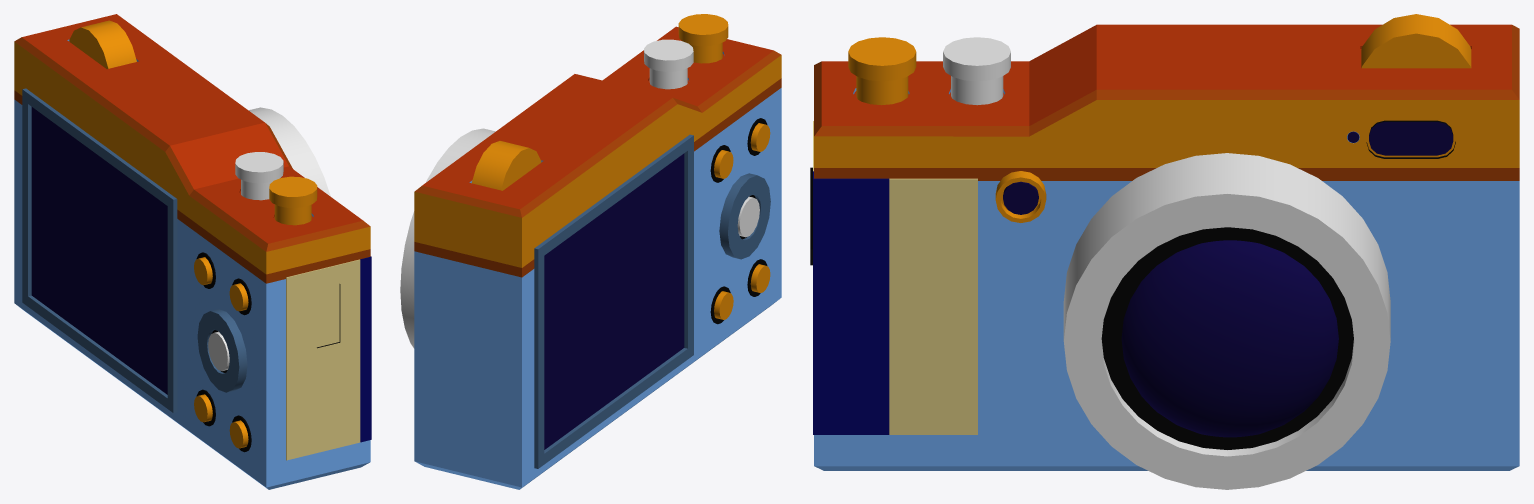
The model's file is LowPolyCamera.fbx.
The picture shows the model from 3 angles, left to right: view 1: azimuth 30°, elevation 25°; view 2: azimuth 150°, elevation 25°; view 3: azimuth 270°, elevation 25°; orthographic projection. The views are drawn at different scales.
Visible parts, largest first — view 1: Cube, Cube.003, Cube.016, Cube.004, Cylinder.002, Cube.001, Cylinder, Cylinder.001, Cube.006, Cube.008, Cube.007, Cube.009 (+1 smaller); view 2: Cube, Cube.003, Cube.004, Cube.001, Cylinder.002, Cylinder.001, Cylinder, Cube.006, Cube.009, Cube.010, Cube.007, Cube.008; view 3: Cube, Cube.001, Cube.016, Sphere, Cylinder.002, Cylinder, Cylinder.001, Cube.015, Cylinder.004.
Boxes of the visible parts, bbox=[...] form: Cube: bbox=[14, 14, 370, 489]; Cube.003: bbox=[22, 88, 177, 412]; Cube.016: bbox=[286, 256, 371, 460]; Cube.004: bbox=[197, 309, 247, 392]; Cylinder.002: bbox=[69, 20, 136, 68]; Cube.001: bbox=[249, 107, 330, 196]; Cylinder: bbox=[269, 176, 317, 225]; Cylinder.001: bbox=[235, 152, 283, 200]; Cube.006: bbox=[208, 331, 229, 370]; Cube.008: bbox=[229, 283, 248, 311]; Cube.007: bbox=[194, 257, 212, 285]; Cube.009: bbox=[194, 394, 212, 422]; Cube: bbox=[414, 26, 781, 489]; Cube.003: bbox=[534, 134, 693, 468]; Cube.004: bbox=[719, 173, 770, 259]; Cube.001: bbox=[400, 128, 495, 348]; Cylinder.002: bbox=[471, 141, 541, 190]; Cylinder.001: bbox=[644, 39, 693, 89]; Cylinder: bbox=[678, 14, 728, 63]; Cube.006: bbox=[737, 196, 759, 237]; Cube.009: bbox=[714, 291, 733, 319]; Cube.010: bbox=[750, 264, 770, 292]; Cube.007: bbox=[714, 150, 733, 178]; Cube.008: bbox=[750, 123, 770, 151]; Cube: bbox=[814, 24, 1519, 470]; Cube.001: bbox=[1063, 153, 1390, 489]; Cube.016: bbox=[813, 121, 977, 434]; Sphere: bbox=[1121, 240, 1338, 437]; Cylinder.002: bbox=[1361, 14, 1471, 68]; Cylinder: bbox=[848, 37, 916, 105]; Cylinder.001: bbox=[943, 37, 1010, 105]; Cube.015: bbox=[1366, 120, 1455, 158]; Cylinder.004: bbox=[995, 171, 1046, 222].
Bounding box in the file's own units: 14.58 × 21.93 × 33.91.
